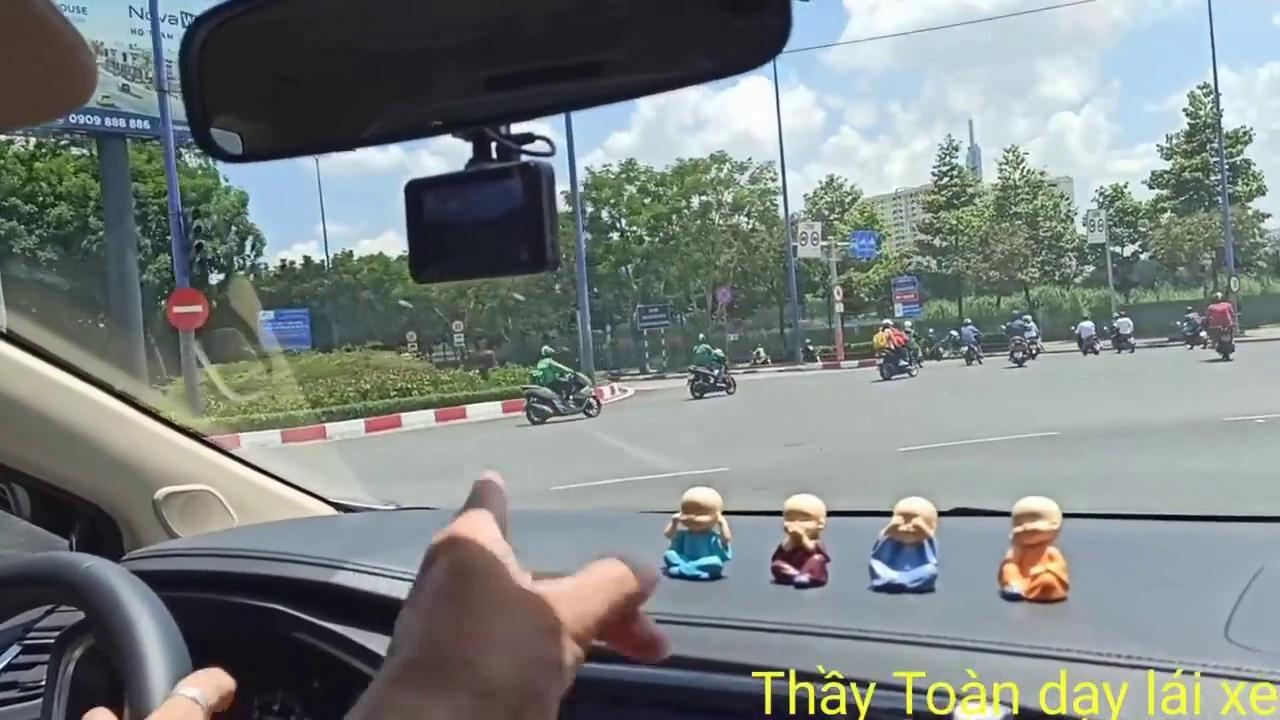Biển phụ: (454, 332, 465, 348)
Cấm cac phương tiện hoạt động trong khung giờ cố định: (797, 221, 822, 259)
Cấm dừng - Cấm đỗ: (714, 284, 733, 304)
Cấm đi ngược chiều: (166, 287, 212, 331)
Khác: (255, 306, 318, 352), (890, 275, 922, 319)
Làn đường cho từng xe: (848, 228, 878, 259)
